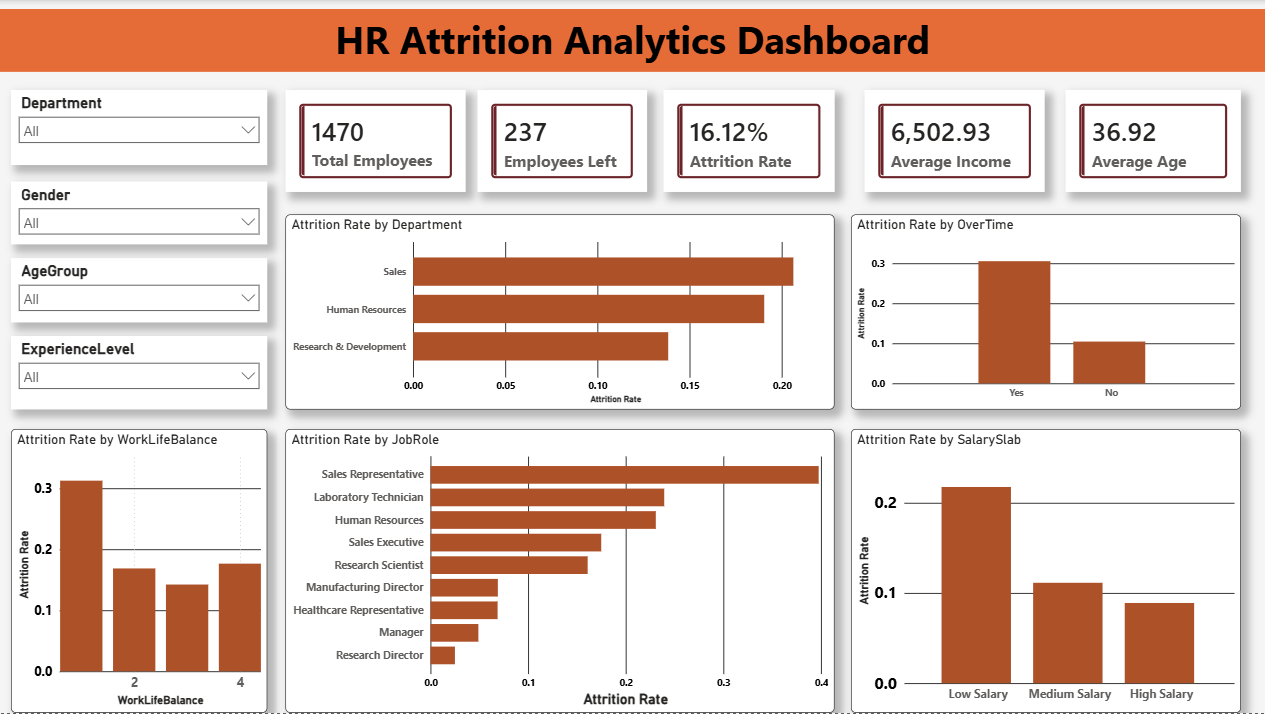

What the dashboard file says about the page in this screenshot:
{"tool":"powerbi","page":{"name":"Page 1","canvas":[1600,900],"ordinal":0},"visuals":[{"type":"textbox","box":[0,11.4,1599.4,79.5],"z":0},{"type":"cardVisual","fields":{"Data":["hr_attrition hr_data.Total Employees"]},"box":[361.5,113.6,227.1,128.7],"z":1000},{"type":"cardVisual","fields":{"Data":["hr_attrition hr_data.Employees Left"]},"box":[603.8,113.6,213.9,128.7],"z":2000},{"type":"cardVisual","fields":{"Data":["hr_attrition hr_data.Attrition Rate"]},"box":[838.5,113.6,215.8,128.7],"z":3000},{"type":"cardVisual","fields":{"Data":["hr_attrition hr_data.Average Income"]},"box":[1092.1,113.6,227.1,128.7],"z":4000},{"type":"cardVisual","fields":{"Data":["hr_attrition hr_data.Average Age"]},"box":[1345.7,113.6,221.5,128.7],"z":5000},{"type":"clusteredBarChart","fields":{"Y":["hr_attrition hr_data.Attrition Rate"],"Category":["hr_attrition hr_data.Department"]},"box":[361.5,270.7,692.7,246.1],"z":6000},{"type":"clusteredBarChart","fields":{"Y":["hr_attrition hr_data.Attrition Rate"],"Category":["hr_attrition hr_data.JobRole"]},"box":[361.5,541.3,692.7,357.7],"z":7000},{"type":"columnChart","fields":{"Category":["hr_attrition hr_data.OverTime"],"Y":["hr_attrition hr_data.Attrition Rate"]},"box":[1075.1,270.7,492.1,246.1],"z":8000},{"type":"columnChart","fields":{"Y":["hr_attrition hr_data.Attrition Rate"],"Category":["hr_attrition hr_data.SalarySlab"]},"box":[1075.1,541.3,492.1,357.7],"z":9000},{"type":"slicer","fields":{"Values":["hr_attrition hr_data.Department"]},"box":[15.1,113.6,323.7,94.6],"z":10000},{"type":"slicer","fields":{"Values":["hr_attrition hr_data.AgeGroup"]},"box":[15.1,325.6,323.7,81.4],"z":11000},{"type":"slicer","fields":{"Values":["hr_attrition hr_data.Gender"]},"box":[15.1,229,323.7,79.5],"z":12000},{"type":"slicer","fields":{"Values":["hr_attrition hr_data.ExperienceLevel"]},"box":[15.1,424,323.7,92.7],"z":13000},{"type":"clusteredColumnChart","fields":{"Category":["hr_attrition hr_data.WorkLifeBalance"],"Y":["hr_attrition hr_data.Attrition Rate"]},"box":[15.1,541.3,323.7,357.7],"z":14000}]}

Visuals, with their boxes in screenshot pixels (x1, y1, x2, y2), scaled from the page's 1600x900 canvas onto the 1265x714 screenshot:
textbox: bbox=(0, 9, 1264, 72)
cardVisual - hr_attrition hr_data.Total Employees: bbox=(286, 90, 465, 192)
cardVisual - hr_attrition hr_data.Employees Left: bbox=(477, 90, 646, 192)
cardVisual - hr_attrition hr_data.Attrition Rate: bbox=(663, 90, 834, 192)
cardVisual - hr_attrition hr_data.Average Income: bbox=(863, 90, 1043, 192)
cardVisual - hr_attrition hr_data.Average Age: bbox=(1064, 90, 1239, 192)
clusteredBarChart - hr_attrition hr_data.Attrition Rate x hr_attrition hr_data.Department: bbox=(286, 215, 833, 410)
clusteredBarChart - hr_attrition hr_data.Attrition Rate x hr_attrition hr_data.JobRole: bbox=(286, 429, 833, 713)
columnChart - hr_attrition hr_data.OverTime x hr_attrition hr_data.Attrition Rate: bbox=(850, 215, 1239, 410)
columnChart - hr_attrition hr_data.Attrition Rate x hr_attrition hr_data.SalarySlab: bbox=(850, 429, 1239, 713)
slicer - hr_attrition hr_data.Department: bbox=(12, 90, 268, 165)
slicer - hr_attrition hr_data.AgeGroup: bbox=(12, 258, 268, 323)
slicer - hr_attrition hr_data.Gender: bbox=(12, 182, 268, 245)
slicer - hr_attrition hr_data.ExperienceLevel: bbox=(12, 336, 268, 410)
clusteredColumnChart - hr_attrition hr_data.WorkLifeBalance x hr_attrition hr_data.Attrition Rate: bbox=(12, 429, 268, 713)
